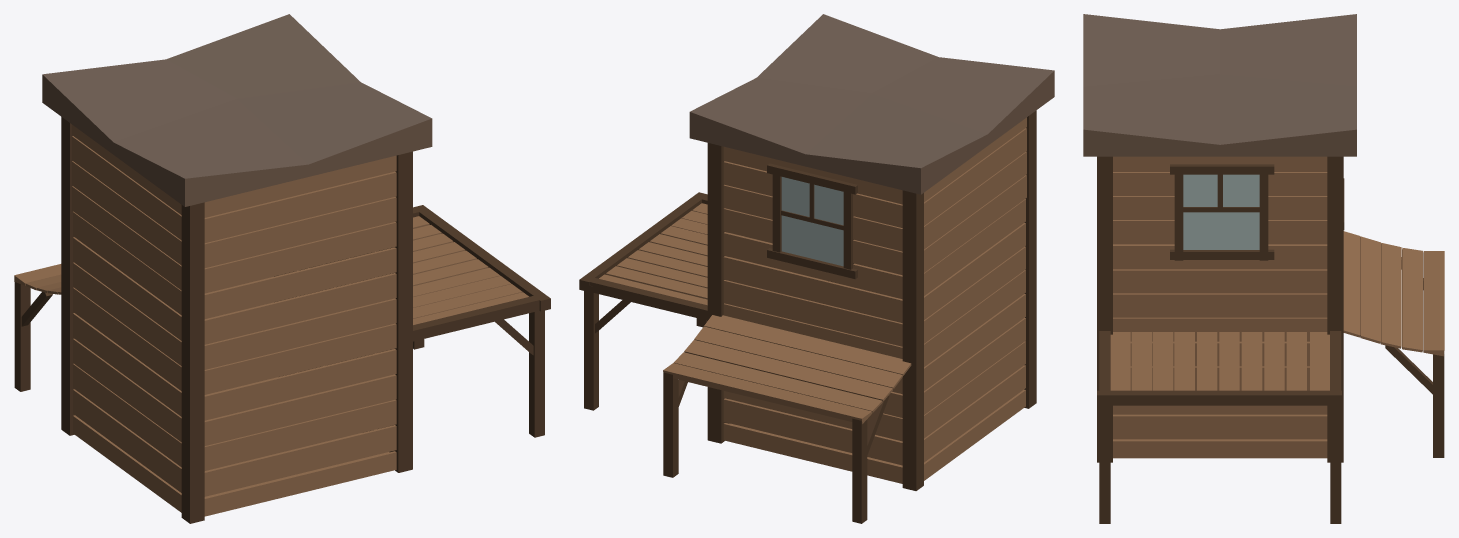
Rendered from western_house.fbx.
3 renders of one model, left to right at view 1: azimuth 30°, elevation 25°; view 2: azimuth 150°, elevation 25°; view 3: azimuth 270°, elevation 25°, orthographic. The views are drawn at different scales.
Visible parts, largest first — view 1: pCube214; view 2: pCube214; view 3: pCube214.
Boxes of the visible parts, x1,y1,x2,y2 form: pCube214: (14, 14, 550, 523); pCube214: (579, 14, 1054, 523); pCube214: (1083, 14, 1444, 523).
Size of the model in its own units: 9.94 by 8.99 by 8.69.
